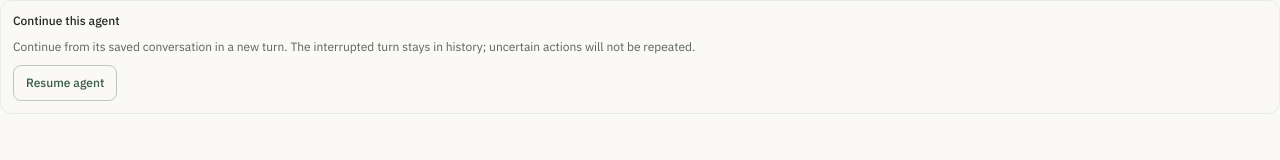
Test: requires explicit confirmation and uses exact turn identity with stable retry ID
Later steps or results of the test are not shown.
Click the button "Resume agent": click(65, 82) [13,64,117,100]
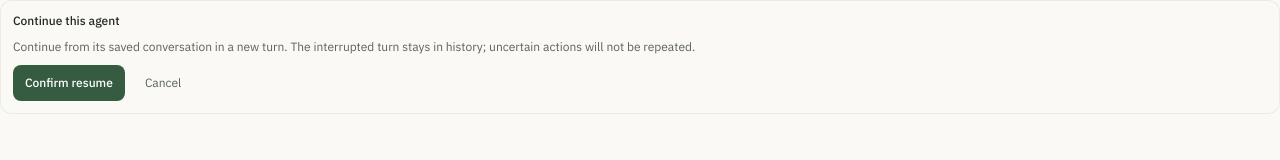
Click the button "Confirm resume": click(69, 82) [13,64,125,100]
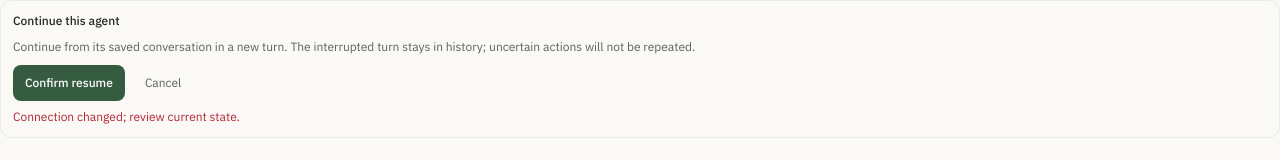
Now the message "Connection changed; review current state." is shown, box [13,108,240,124]
